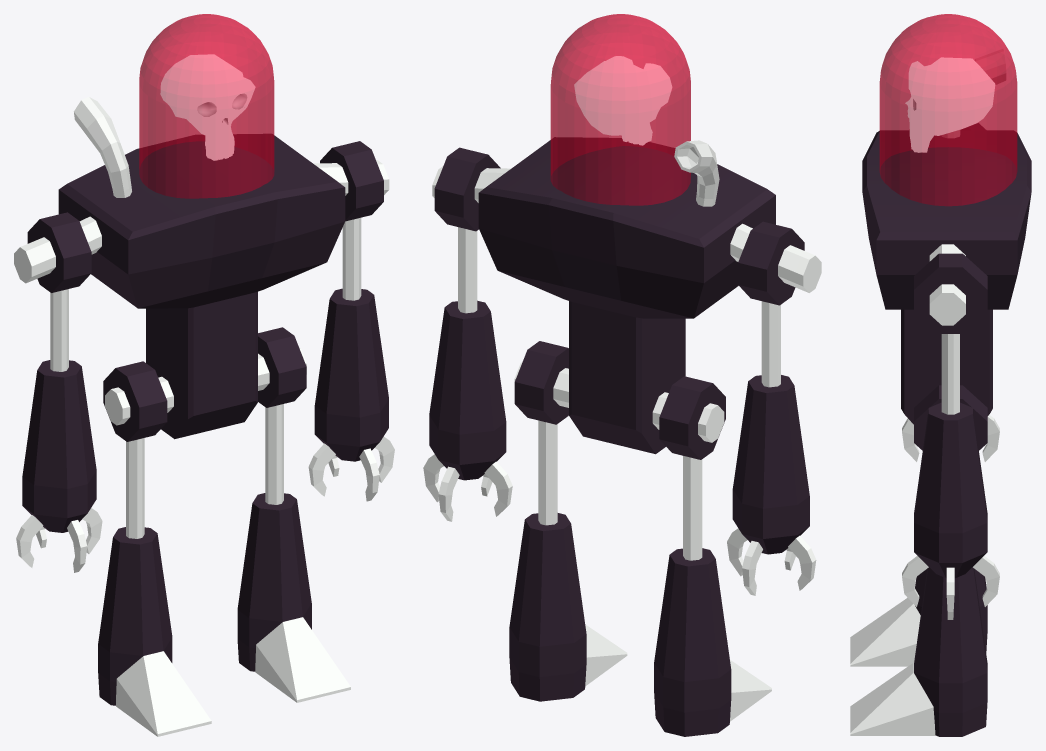
The model's file is asset5.glb.
3 views of the same model, side by side, from view 1: azimuth 30°, elevation 25°; view 2: azimuth 150°, elevation 25°; view 3: azimuth 270°, elevation 25° (orthographic). The views are drawn at different scales.
Parts seen in each view (by area): view 1: busto.002, elmo, avanbraccio.003, avanbraccio.002, stinco_sx.001, stinco_dx.001, TESCHIO, piede_sx.001, piede_dx.001, anca_dx.001, spalla.003, anca_sx.001 (+12 smaller); view 2: busto.002, elmo, stinco_sx.001, stinco_dx.001, avanbraccio.003, avanbraccio.002, TESCHIO, anca_dx.001, spalla.003, anca_sx.001, spalla.002, asse_braccia.001 (+12 smaller); view 3: busto.002, elmo, avanbraccio.003, stinco_sx.001, TESCHIO, piede_sx.001, spalla.002, piede_dx.001, anca_sx.001, asse_braccia.001, braccio.002, stinco_dx.001 (+6 smaller).
Boxes of the visible parts, bbox=[...] form: busto.002: bbox=[58, 134, 345, 439]; elmo: bbox=[139, 14, 274, 198]; avanbraccio.003: bbox=[314, 288, 388, 461]; avanbraccio.002: bbox=[22, 360, 96, 532]; stinco_sx.001: bbox=[237, 493, 311, 671]; stinco_dx.001: bbox=[98, 527, 172, 705]; TESCHIO: bbox=[160, 54, 255, 160]; piede_sx.001: bbox=[255, 617, 350, 702]; piede_dx.001: bbox=[116, 651, 211, 736]; anca_dx.001: bbox=[103, 361, 167, 441]; spalla.003: bbox=[27, 212, 91, 292]; anca_sx.001: bbox=[258, 327, 306, 407]; busto.002: bbox=[478, 137, 775, 454]; elmo: bbox=[550, 14, 690, 205]; stinco_sx.001: bbox=[509, 513, 586, 701]; stinco_dx.001: bbox=[654, 548, 731, 736]; avanbraccio.003: bbox=[429, 300, 506, 480]; avanbraccio.002: bbox=[732, 375, 809, 554]; TESCHIO: bbox=[574, 56, 672, 145]; anca_dx.001: bbox=[659, 376, 725, 459]; spalla.003: bbox=[738, 221, 804, 305]; anca_sx.001: bbox=[514, 341, 568, 424]; spalla.002: bbox=[434, 147, 500, 231]; asse_braccia.001: bbox=[432, 166, 821, 292]; busto.002: bbox=[862, 130, 1031, 424]; elmo: bbox=[879, 14, 1017, 206]; avanbraccio.003: bbox=[914, 402, 987, 578]; stinco_sx.001: bbox=[914, 567, 987, 736]; TESCHIO: bbox=[905, 57, 995, 152]; piede_sx.001: bbox=[850, 662, 935, 735]; spalla.002: bbox=[914, 253, 987, 333]; piede_dx.001: bbox=[850, 598, 920, 666]; anca_sx.001: bbox=[914, 385, 987, 450]; asse_braccia.001: bbox=[929, 244, 965, 325]; braccio.002: bbox=[941, 334, 959, 414]; stinco_dx.001: bbox=[915, 569, 987, 652].
Bounding box in the file's own units: 2.42 × 4.05 × 0.9963.
